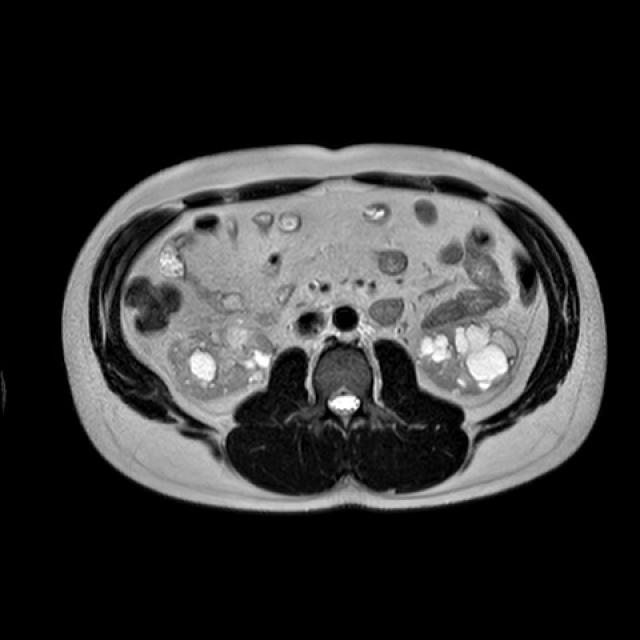sag: (171, 316, 275, 403)
sol: (417, 317, 521, 397)
